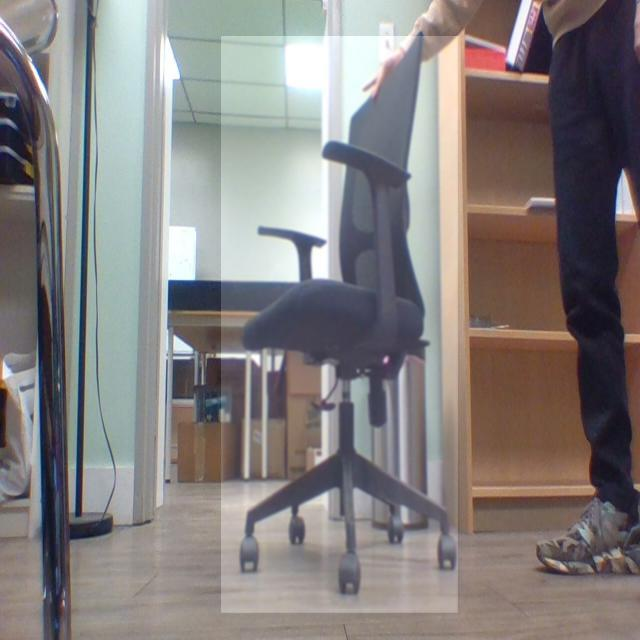chair: (232, 27, 461, 601)
light: (289, 31, 343, 98), (167, 43, 197, 88)
table: (165, 273, 346, 490)
